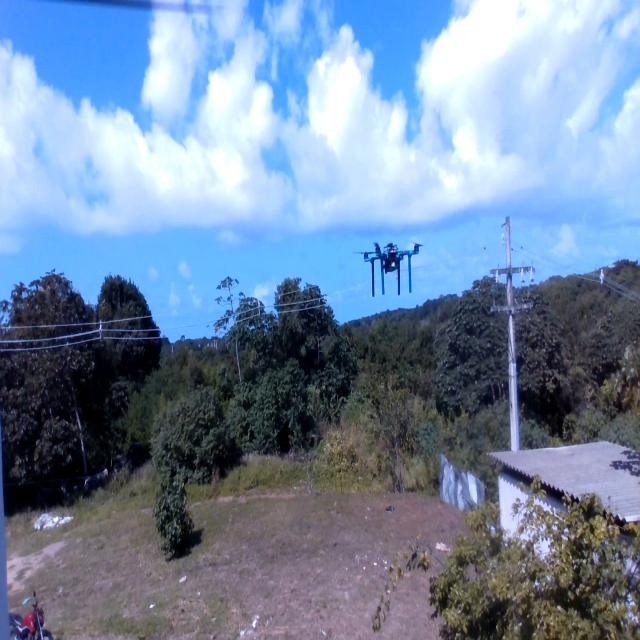-uav-: (347, 230, 435, 314)
